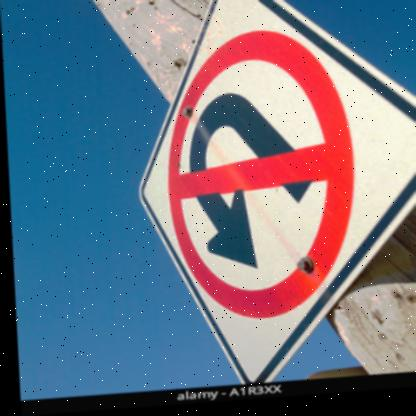No U-turn: (142, 14, 376, 340)
